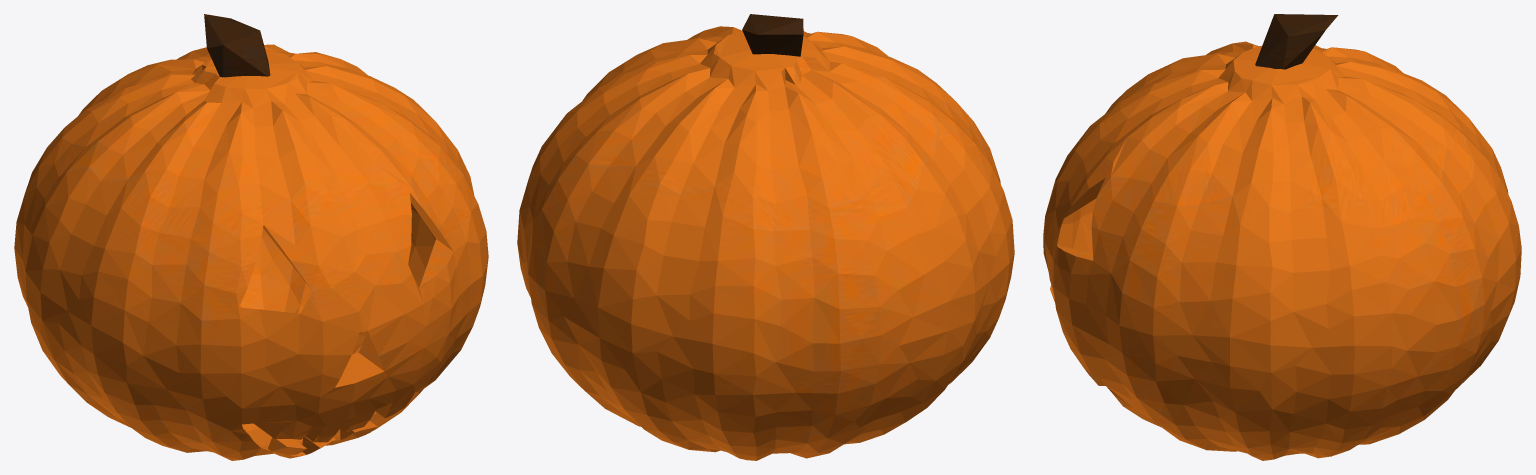
File: low-poly-halloween-pumpkin.obj
The picture shows the model from 3 angles, left to right: view 1: azimuth 30°, elevation 25°; view 2: azimuth 150°, elevation 25°; view 3: azimuth 270°, elevation 25°; orthographic projection. The views are drawn at different scales.
Visible parts, largest first — view 1: Sphere; view 2: Sphere; view 3: Sphere.
Part boxes in pixels (left/top/right/bottom): Sphere: left=14, top=14, right=488, bottom=460; Sphere: left=517, top=14, right=1014, bottom=460; Sphere: left=1043, top=14, right=1521, bottom=460.
Bounding box in the file's own units: 3.67 × 3.43 × 3.67.
Materials: 1 (1 with a texture image).
